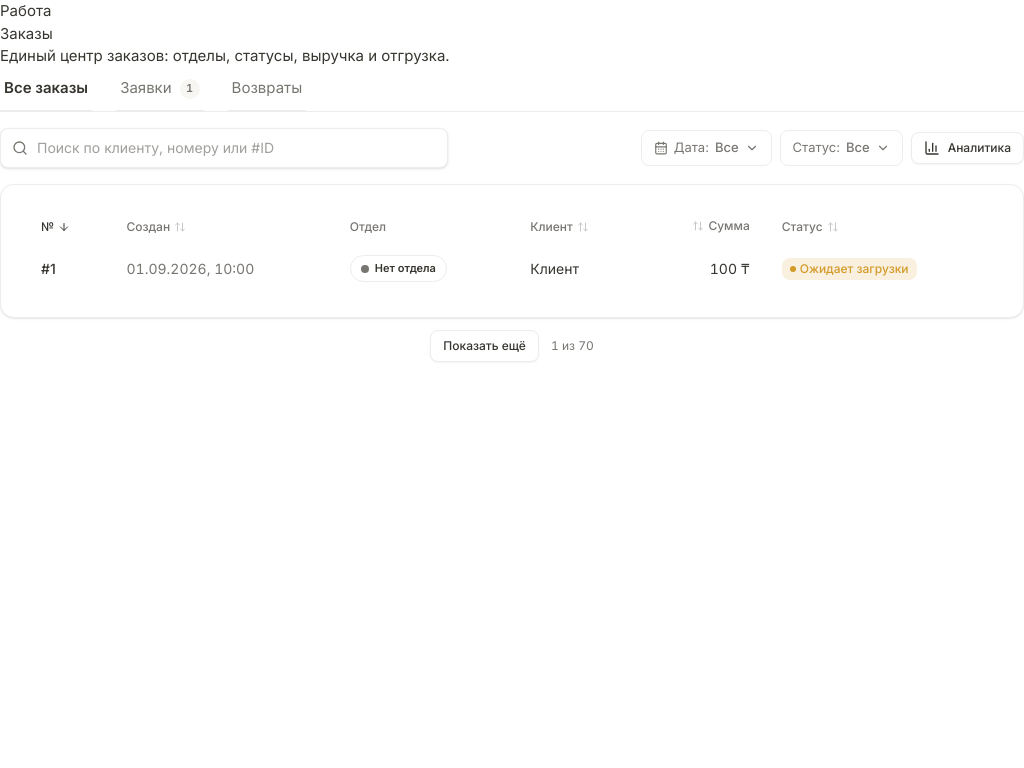
gives staff who confirm orders a «Заявки» tab and keeps a department employee on their department
This screenshot has width=1024, height=768.
expect the tab "Заявки 1" is shown: met, box x1=116 y1=68 x2=204 y2=112
expect the text "Отдел Мельница" is not shown: met
Click the button "Аналитика" at (967, 148), box x1=911 y1=132 x2=1023 y2=164
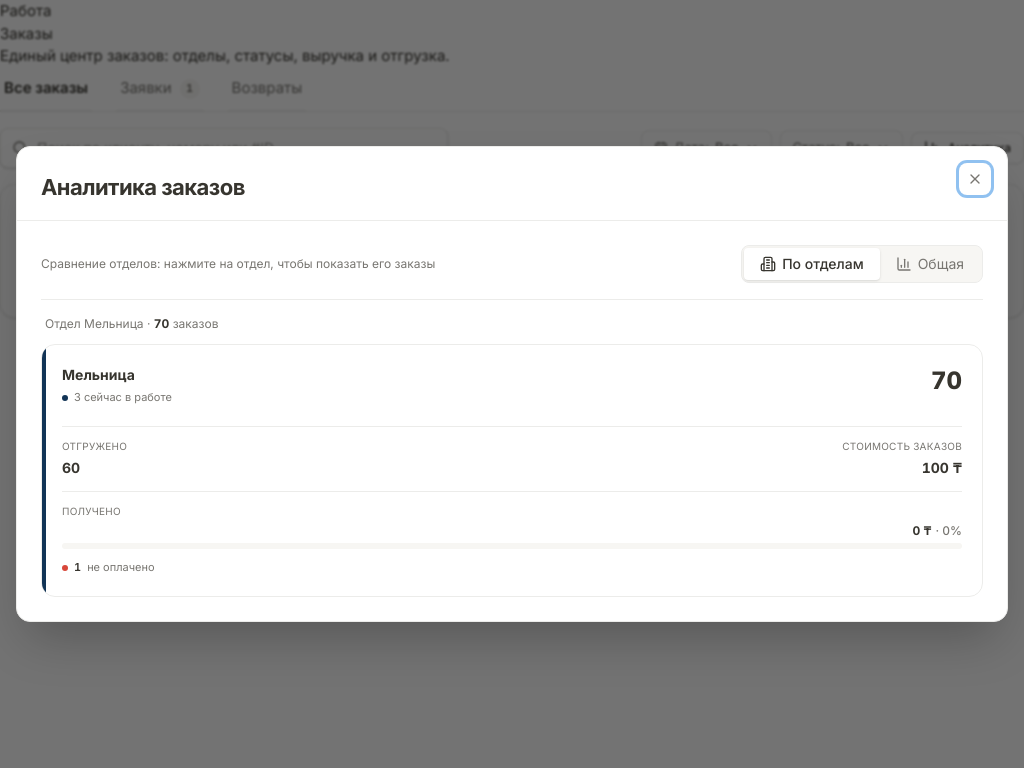
expect the text "Отдел Мельница · 70 заказов" is shown: met, box x1=45 y1=316 x2=218 y2=332
// Нажал на отдел — окно закрывается, список показывает заказы отдела.
Click the button "Мельница" at (512, 582), box x1=41 y1=344 x2=983 y2=597
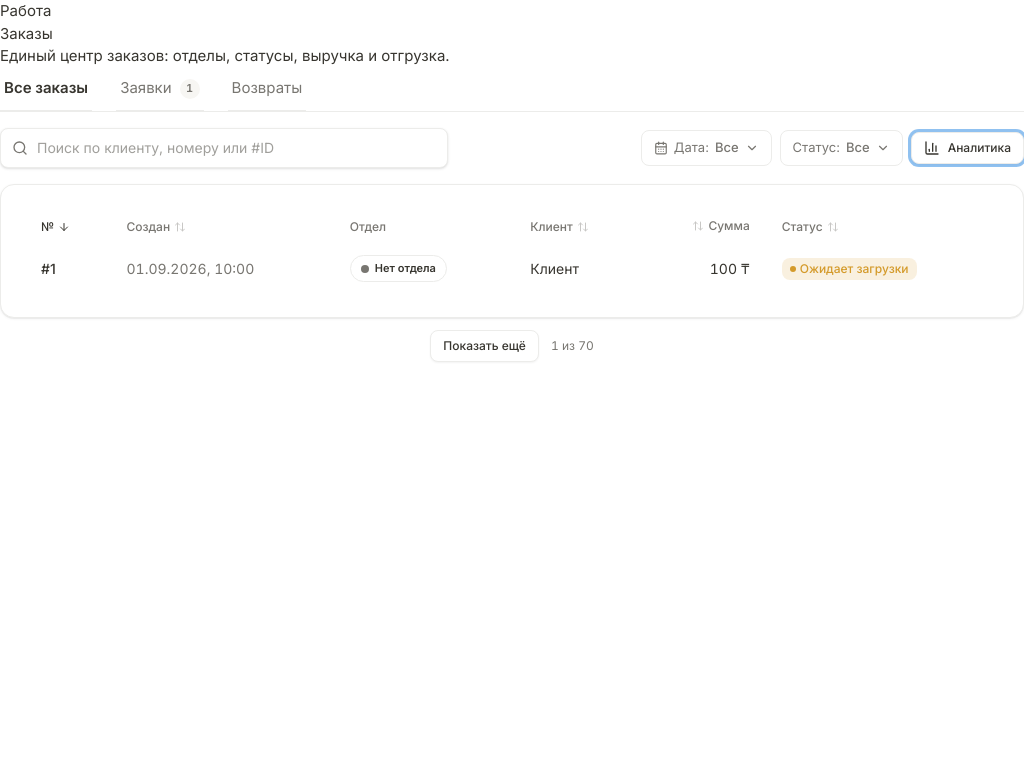
expect the heading "Аналитика заказов" is gone: met
Click the tab "Заявки 1" at (160, 90), box x1=116 y1=68 x2=204 y2=112
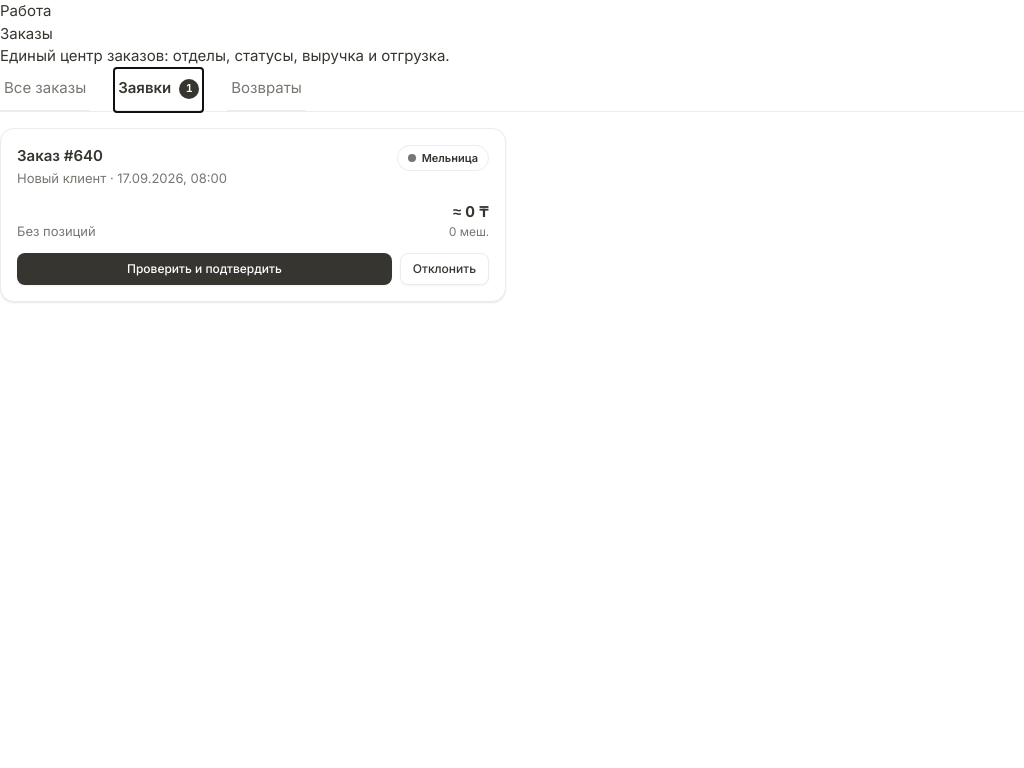
expect the field with placeholder "Поиск по клиенту, номеру или #ID" is not shown: met
expect the link "Заказ #640" is shown: met, box x1=17 y1=146 x2=103 y2=164
expect the button "Проверить и подтвердить" is shown: met, box x1=17 y1=253 x2=392 y2=285
